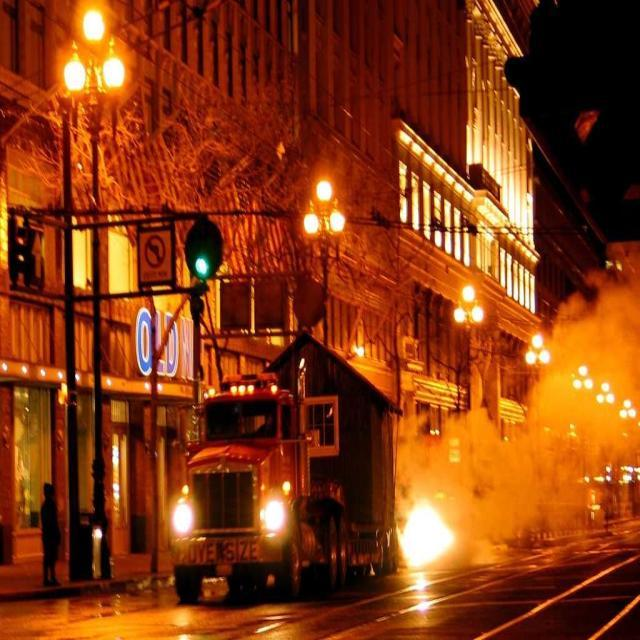Fire: (406, 508, 447, 559)
